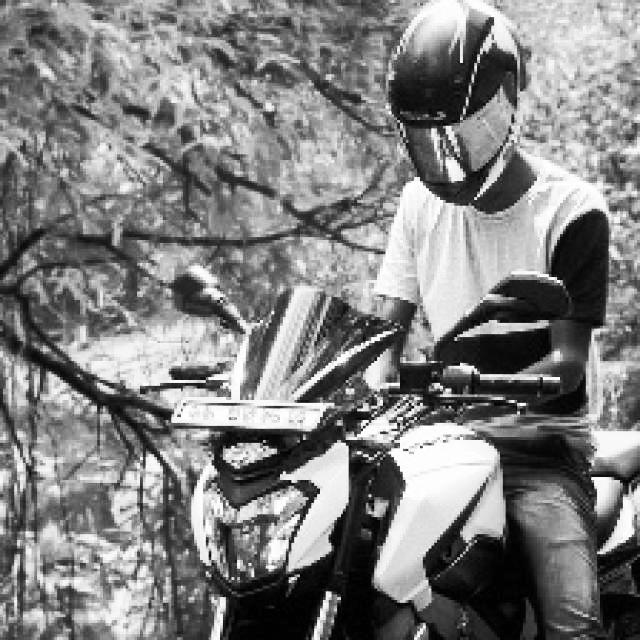Bike: (187, 286, 527, 639)
